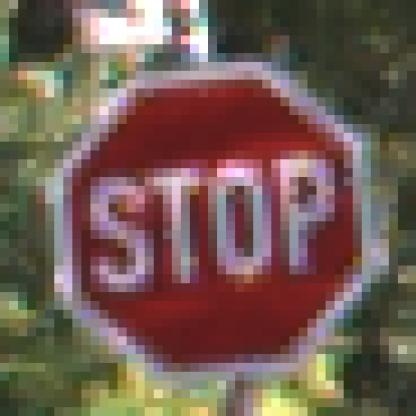Stop: (57, 65, 376, 372)
